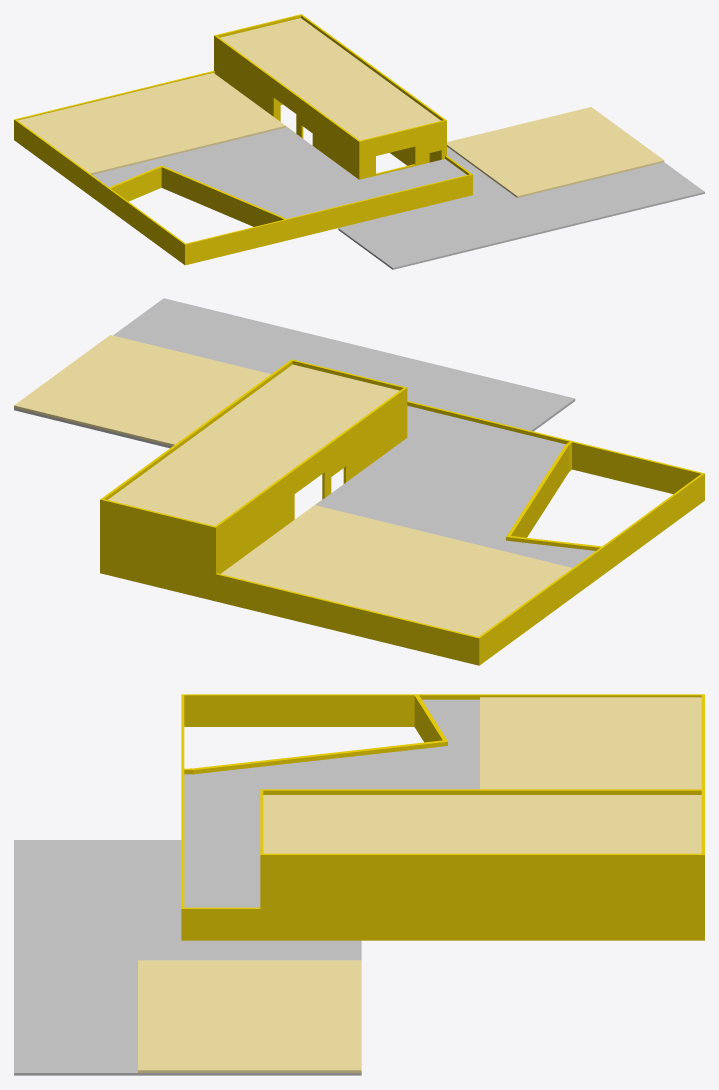
3 renders of one model, top to bottom at view 1: azimuth 30°, elevation 25°; view 2: azimuth 150°, elevation 25°; view 3: azimuth 270°, elevation 25°, orthographic. The views are drawn at different scales.
Parts seen in each view (by area): view 1: F6_ceiling, ncl1_522, F6_wall; view 2: F6_ceiling, F6_wall, ncl1_522; view 3: F6_ceiling, ncl1_522, F6_wall.
Boxes of the visible parts, bbox=[...] form: F6_ceiling: bbox=[18, 18, 664, 197]; ncl1_522: bbox=[92, 126, 704, 269]; F6_wall: bbox=[14, 14, 472, 265]; F6_ceiling: bbox=[14, 335, 571, 636]; F6_wall: bbox=[100, 359, 704, 665]; ncl1_522: bbox=[14, 298, 595, 567]; F6_ceiling: bbox=[138, 697, 701, 1072]; ncl1_522: bbox=[14, 699, 479, 1075]; F6_wall: bbox=[181, 694, 704, 940].
Size of the model in its own units: 5304 by 629 by 4461.
